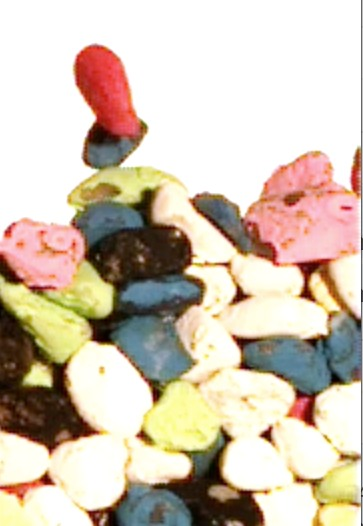black: (87, 230, 191, 279), (1, 389, 92, 443)
blue: (237, 336, 332, 398), (110, 316, 195, 382), (187, 190, 254, 255), (116, 277, 199, 313), (68, 206, 143, 243), (327, 313, 363, 384), (184, 438, 229, 481)
green: (1, 281, 92, 365), (144, 381, 223, 453), (61, 170, 178, 212), (39, 260, 116, 320)
pink: (241, 151, 363, 266), (1, 217, 85, 289)
red: (74, 44, 137, 139), (291, 393, 321, 427)
white: (64, 342, 154, 436), (199, 367, 298, 439), (149, 184, 235, 265), (49, 434, 129, 511), (220, 289, 332, 341), (174, 309, 242, 384), (271, 417, 344, 481), (218, 436, 293, 493), (125, 435, 192, 490), (227, 251, 307, 297), (181, 267, 242, 316)
